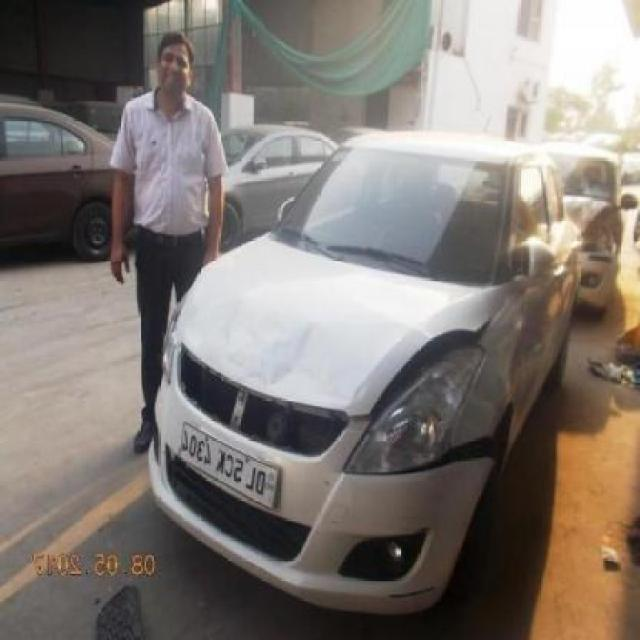damage: (173, 338, 347, 460), (180, 298, 369, 408), (366, 317, 491, 432), (307, 277, 434, 340), (361, 430, 494, 478), (185, 275, 304, 322), (461, 467, 488, 529), (202, 262, 267, 285), (389, 584, 436, 600), (343, 411, 370, 437), (396, 510, 421, 521), (413, 524, 433, 533)
